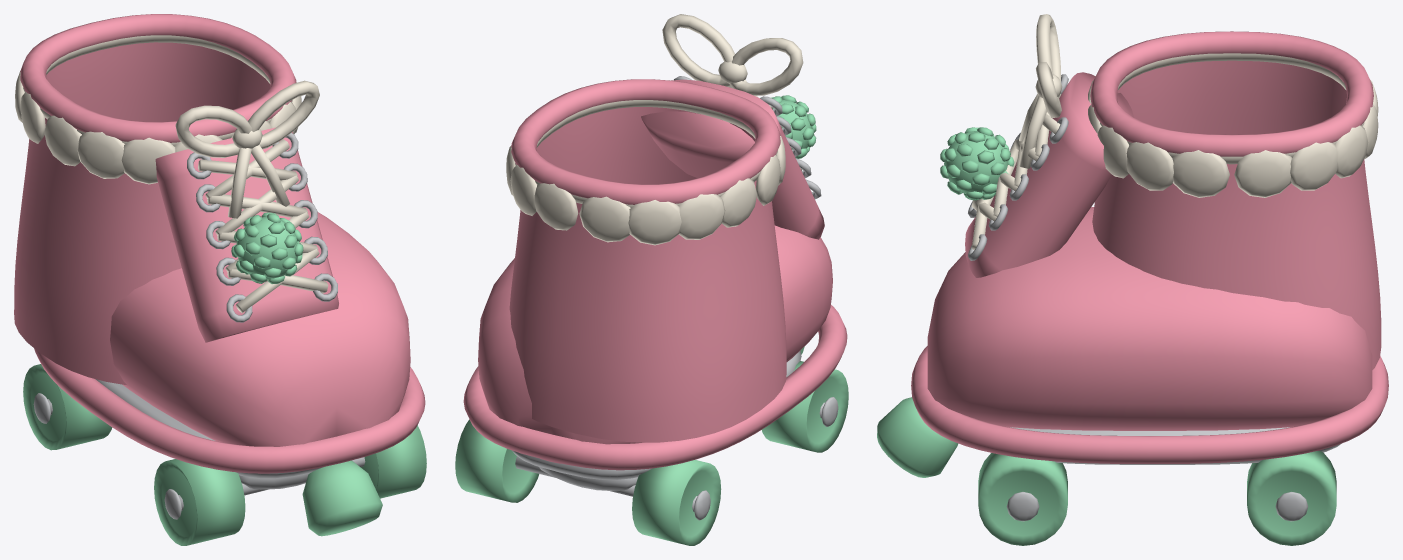
The model's file is grandma_roller_skates.glb.
The picture shows the model from 3 angles, left to right: view 1: azimuth 30°, elevation 25°; view 2: azimuth 150°, elevation 25°; view 3: azimuth 270°, elevation 25°; orthographic projection. The views are drawn at different scales.
Visible parts, largest first — view 1: GrandmaRollerSkate; view 2: GrandmaRollerSkate; view 3: GrandmaRollerSkate.
Part boxes in pixels (x1,y1,x2,y2): GrandmaRollerSkate: [14, 14, 426, 545]; GrandmaRollerSkate: [455, 14, 848, 545]; GrandmaRollerSkate: [877, 14, 1388, 545].
Bounding box in the file's own units: 0.23 × 0.3187 × 0.3428.
